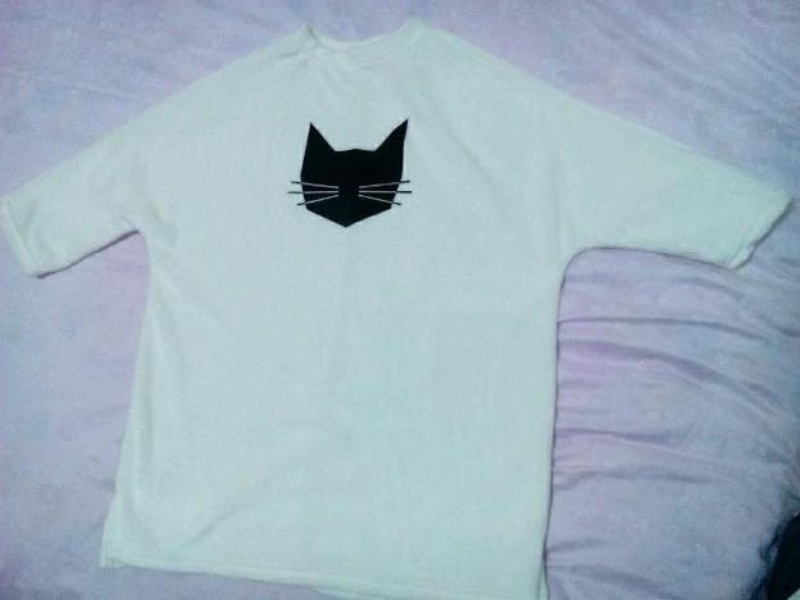long_sleeved_dress: (1, 10, 799, 599)
